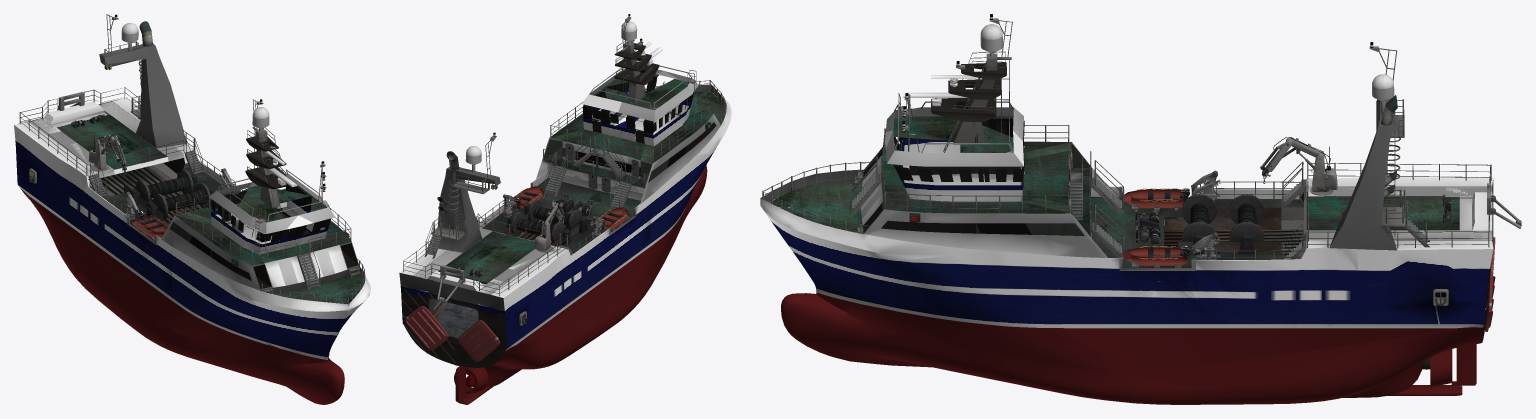
File: stern-trawler-40m.glb
3 renders of one model, left to right at view 1: azimuth 30°, elevation 25°; view 2: azimuth 150°, elevation 25°; view 3: azimuth 270°, elevation 25°, orthographic. The views are drawn at different scales.
Visible parts, largest first — view 1: Object_73, Object_80, Object_74, Object_58, Object_79, Object_15, Object_70, Object_29, Object_46, Object_11, Object_52, Object_71 (+6 smaller); view 2: Object_73, Object_80, Object_58, Object_74, Object_79, Object_15, Object_71, Object_37, Object_44, Object_11, Object_70, Object_24 (+7 smaller); view 3: Object_73, Object_80, Object_74, Object_58, Object_79, Object_71, Object_15, Object_70, Object_51, Object_29, Object_11, Object_44 (+6 smaller).
Part boxes in pixels (<box>): Object_73: <box>14,97,370,357</box>; Object_80: <box>21,189,344,404</box>; Object_74: <box>57,114,364,303</box>; Object_58: <box>19,14,365,303</box>; Object_79: <box>18,43,363,304</box>; Object_15: <box>15,105,358,288</box>; Object_70: <box>19,23,328,359</box>; Object_29: <box>88,41,320,289</box>; Object_46: <box>100,166,201,224</box>; Object_11: <box>190,185,330,255</box>; Object_52: <box>147,176,205,211</box>; Object_71: <box>100,167,298,257</box>; Object_73: <box>399,69,731,348</box>; Object_80: <box>454,165,707,404</box>; Object_58: <box>403,17,726,325</box>; Object_74: <box>438,72,724,284</box>; Object_79: <box>399,77,725,314</box>; Object_15: <box>401,43,716,367</box>; Object_71: <box>482,139,686,253</box>; Object_37: <box>405,306,500,401</box>; Object_44: <box>428,211,592,338</box>; Object_11: <box>575,79,693,176</box>; Object_70: <box>465,21,685,351</box>; Object_24: <box>426,149,629,254</box>; Object_73: <box>760,107,1493,324</box>; Object_80: <box>781,291,1483,404</box>; Object_74: <box>769,116,1459,232</box>; Object_58: <box>762,18,1491,305</box>; Object_79: <box>760,98,1493,250</box>; Object_71: <box>976,144,1303,268</box>; Object_15: <box>863,62,1493,342</box>; Object_70: <box>816,24,1483,328</box>; Object_51: <box>1182,194,1264,241</box>; Object_29: <box>850,98,1403,214</box>; Object_11: <box>894,121,1069,234</box>; Object_44: <box>1153,207,1281,251</box>.
Size of the model in its own units: 11.38 by 26.01 by 47.44.
61 materials, 53 textured.
